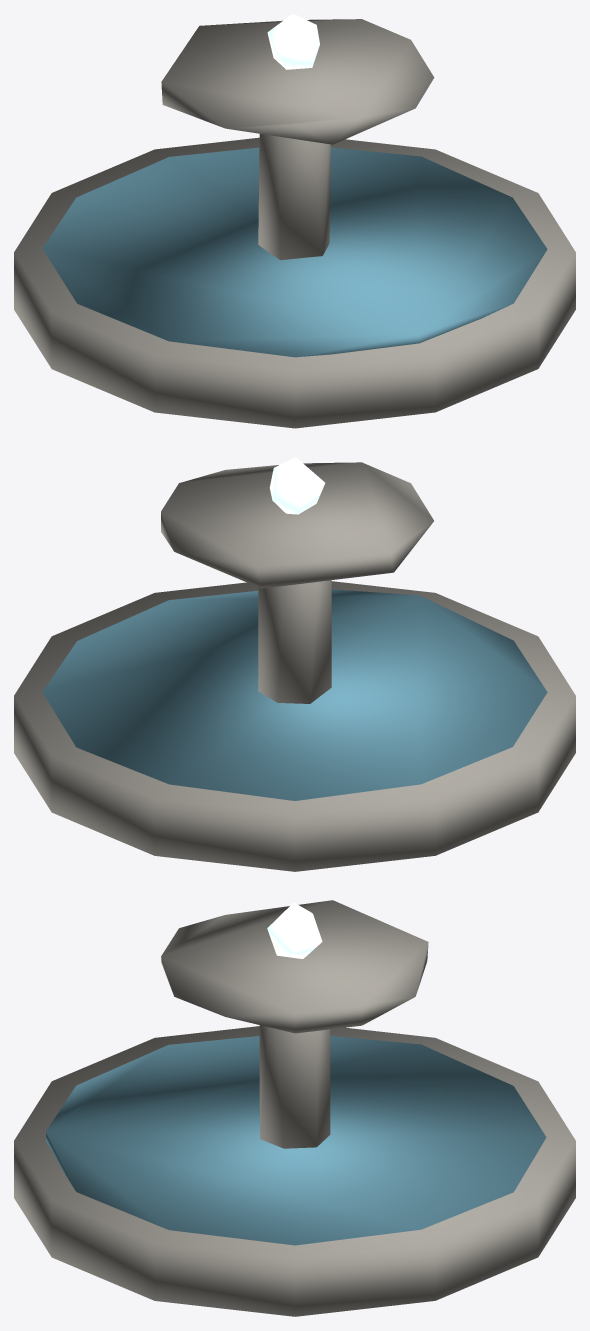
The model's file is SM_Kurpark_Fountain_LOD3.fbx.
The picture shows the model from 3 angles, top to bottom: view 1: azimuth 30°, elevation 25°; view 2: azimuth 150°, elevation 25°; view 3: azimuth 270°, elevation 25°; orthographic projection.
Parts seen in each view (by area): view 1: SM_Kurpark_Fountain_LOD3; view 2: SM_Kurpark_Fountain_LOD3; view 3: SM_Kurpark_Fountain_LOD3.
Part boxes in pixels (box(x1,y1,x2,y2)): SM_Kurpark_Fountain_LOD3: box(14, 14, 575, 428); SM_Kurpark_Fountain_LOD3: box(14, 457, 575, 871); SM_Kurpark_Fountain_LOD3: box(14, 900, 575, 1316).
Size of the model in its own units: 4.4 by 2.55 by 4.4.
